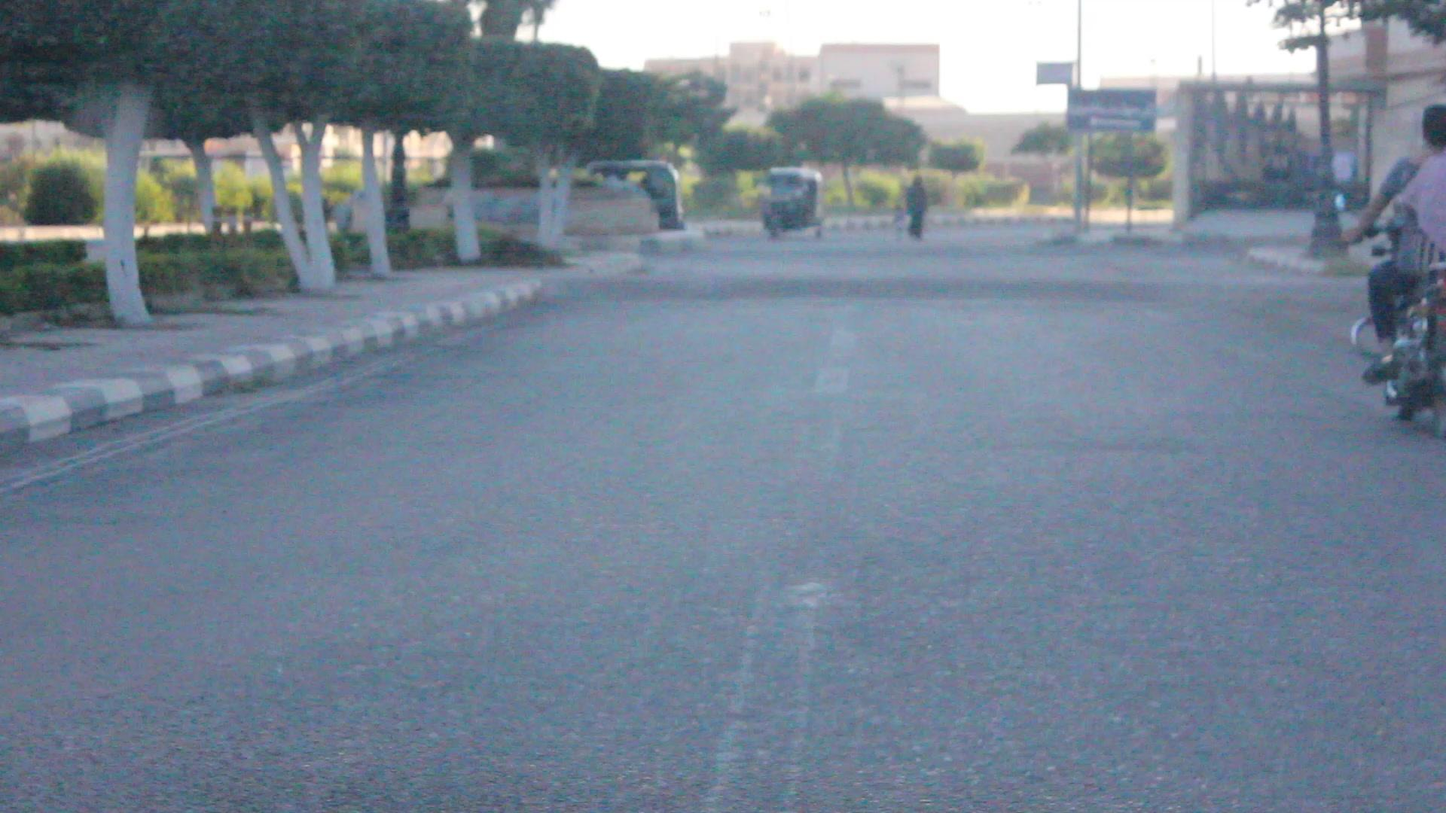Bump: (597, 256, 1216, 322)
